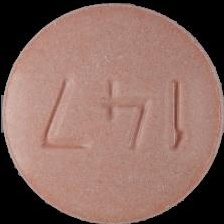0615-3562: (0, 0, 224, 224)
